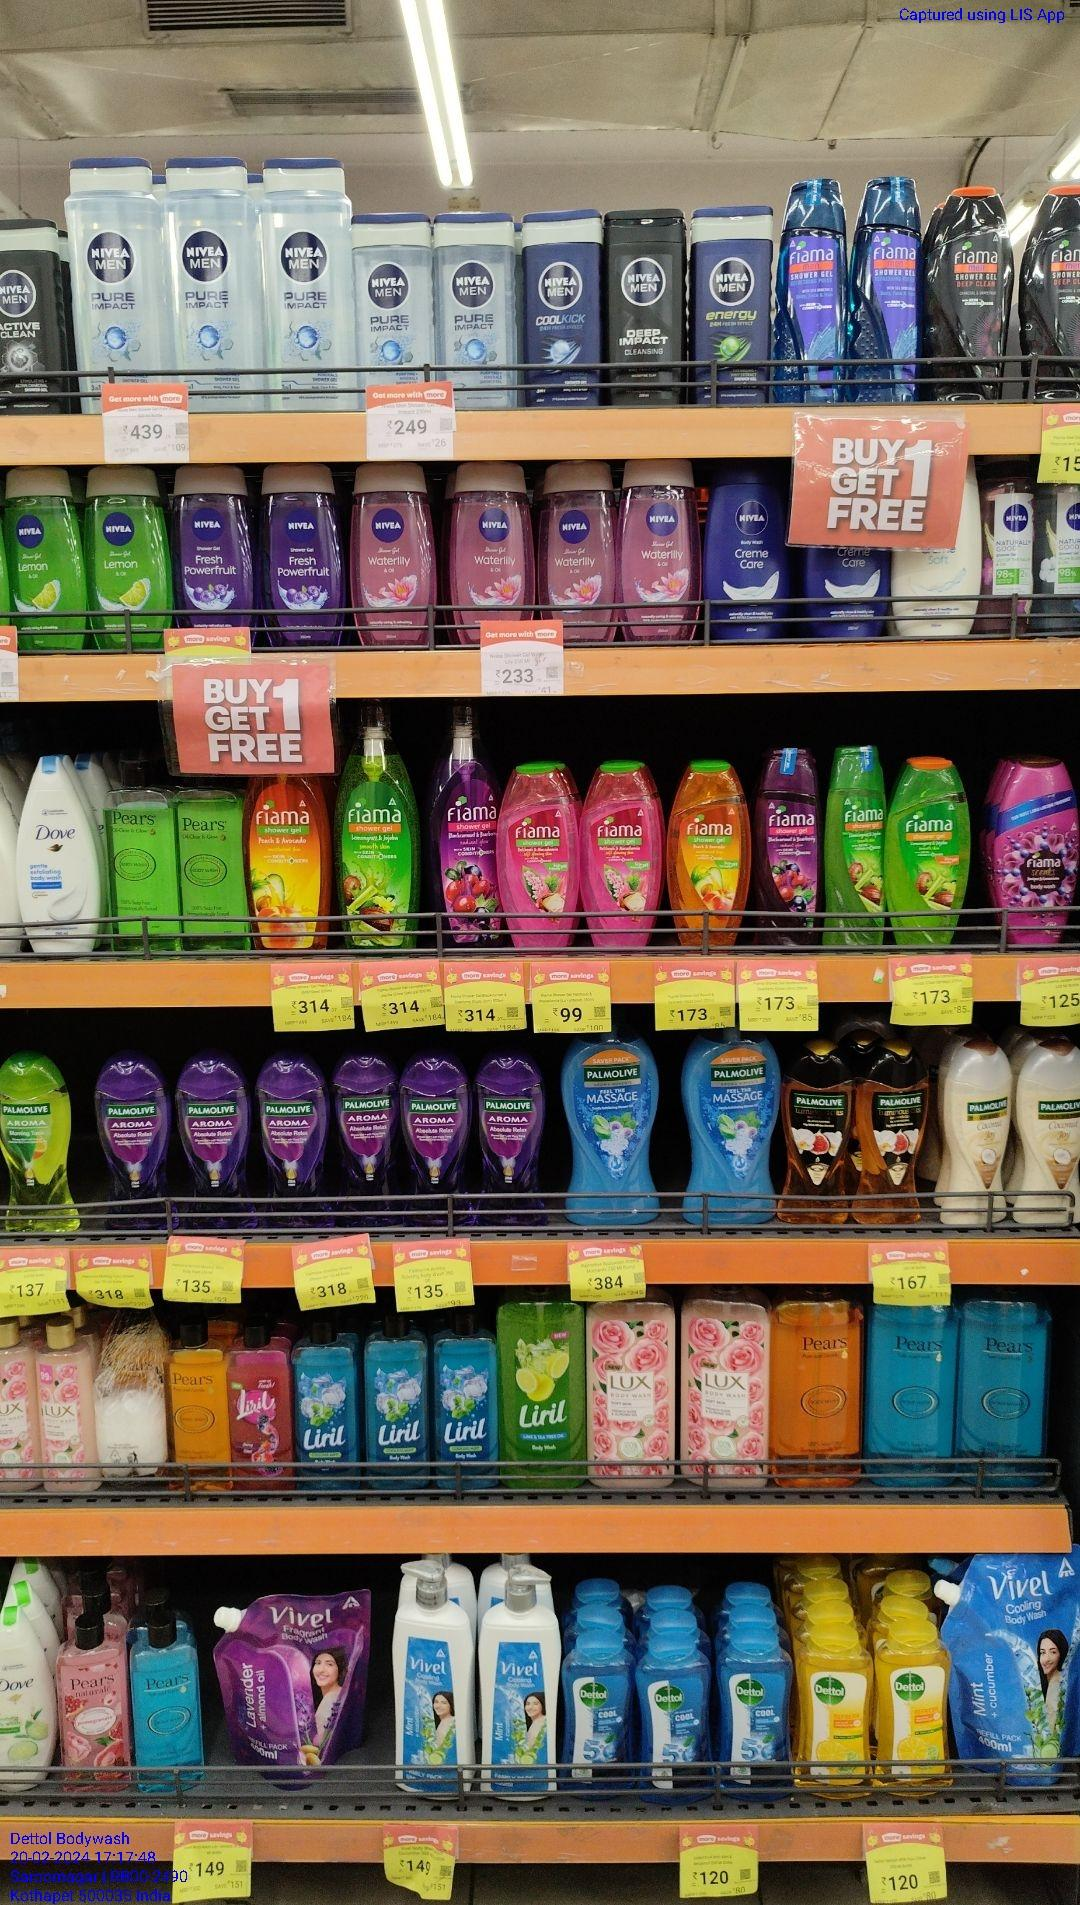Dettol_Bodywash_Cool: (639, 1634, 715, 1804), (719, 1632, 793, 1799)
Dettol_Bodywash_Refresh: (799, 1629, 872, 1802), (878, 1630, 953, 1796)
Dove_Gentle_Exfoliating_Body_Wash_250ML: (16, 754, 99, 955)
Dove_Refreshing_Body_Wash_250ML: (0, 1609, 55, 1795)
Fiama_Shower_Gel_Lemongrass_and_Jojoba_250ML: (890, 751, 966, 951), (822, 738, 884, 947)
Fiama_Shower_Gel_Patchouli_and_Macadamia_250ML: (497, 758, 579, 951), (581, 756, 661, 950)
Fiama_Shower_Gel_Peach_and_Avocado_250ML: (668, 751, 749, 947)
Liril_Cooling_Mint_Body_Wash_250ML: (292, 1314, 364, 1495), (433, 1314, 500, 1488), (368, 1315, 429, 1498)
Nivea_Creme_Care_Body_Wash_250ML: (704, 466, 785, 637)
Nivea_Shower_Gel_Fresh_Powerfruit_250ML: (261, 464, 344, 641), (168, 468, 254, 625)
Nivea_Shower_Gel_Lemon_and_Oil_250ML: (14, 472, 88, 649), (93, 466, 161, 646)
Nivea_Shower_Gel_Waterlily_and_Oil_250ML: (348, 462, 436, 644), (446, 463, 538, 619), (623, 458, 699, 637), (543, 461, 618, 621)
Palmolive_Aroma_Morning_Tonic_Shower_Gel_250ML: (0, 1049, 81, 1235)
Palmolive_Aroma_Relax_250ML: (96, 1051, 174, 1235), (178, 1053, 255, 1232), (259, 1056, 335, 1232), (408, 1058, 477, 1235), (480, 1060, 551, 1229), (339, 1056, 403, 1226)
Palmolive_Luminous_Oils_With_White_Orchid_Shower_Gel_250ML: (855, 1030, 931, 1229), (785, 1043, 850, 1226)
Pears_Pure_Glycerin_and_Lemon_Flower_Extracts_Body_Wash_250ML: (107, 755, 174, 952), (179, 782, 250, 946)
Pears_Pure_Glycerin_and_Mint_Extracts_Body_Wash_250ML: (134, 1616, 204, 1791), (564, 1634, 634, 1798)
